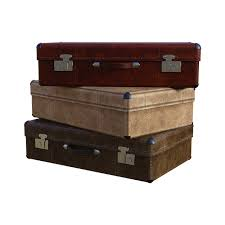suitcase: (25, 118, 195, 182), (27, 79, 196, 139), (32, 40, 205, 90)
